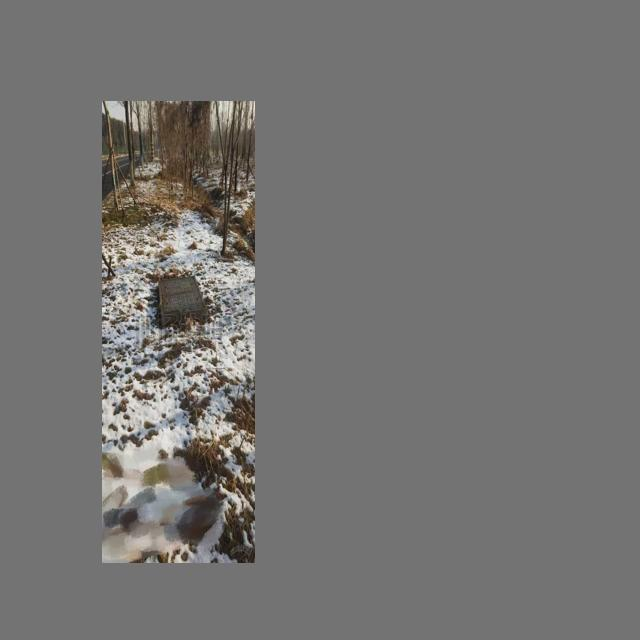circle: (156, 275, 210, 331)
